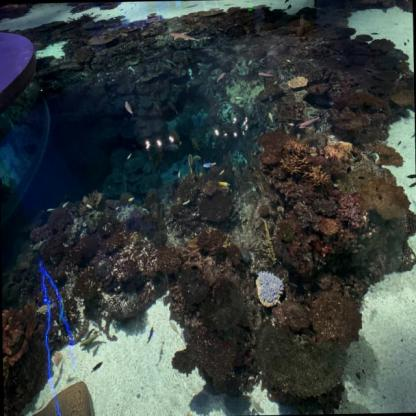fish: (297, 114, 321, 130), (79, 334, 101, 348), (167, 318, 181, 338), (164, 99, 180, 115), (34, 302, 53, 315), (89, 359, 103, 374), (31, 237, 46, 251), (123, 97, 134, 116), (56, 297, 64, 322), (152, 99, 162, 118), (146, 324, 154, 344), (187, 152, 194, 174), (190, 136, 200, 151), (156, 347, 164, 365), (154, 150, 163, 166), (257, 71, 275, 79), (215, 70, 226, 83), (171, 128, 179, 143), (203, 160, 216, 169), (217, 179, 230, 188), (84, 328, 95, 338), (58, 360, 64, 378), (63, 375, 75, 384), (61, 199, 71, 209), (52, 376, 60, 388), (266, 110, 272, 125), (192, 153, 202, 162), (45, 205, 56, 213), (406, 170, 414, 180), (181, 198, 191, 206), (407, 180, 415, 190), (84, 202, 92, 210), (127, 195, 135, 203), (395, 140, 402, 148), (218, 168, 225, 176), (126, 152, 132, 160), (286, 122, 294, 128), (284, 58, 291, 64), (246, 59, 252, 66), (114, 205, 121, 211), (410, 130, 414, 140), (177, 170, 181, 178), (234, 96, 242, 100), (273, 80, 278, 84)
shark: (170, 31, 200, 42)
